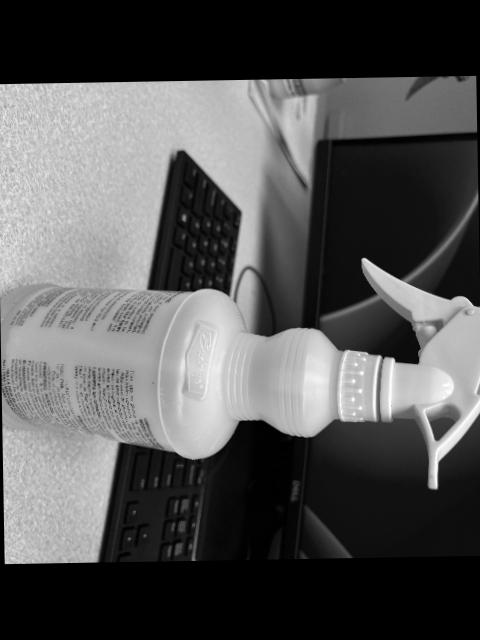StarSpray: (0, 258, 480, 490)
